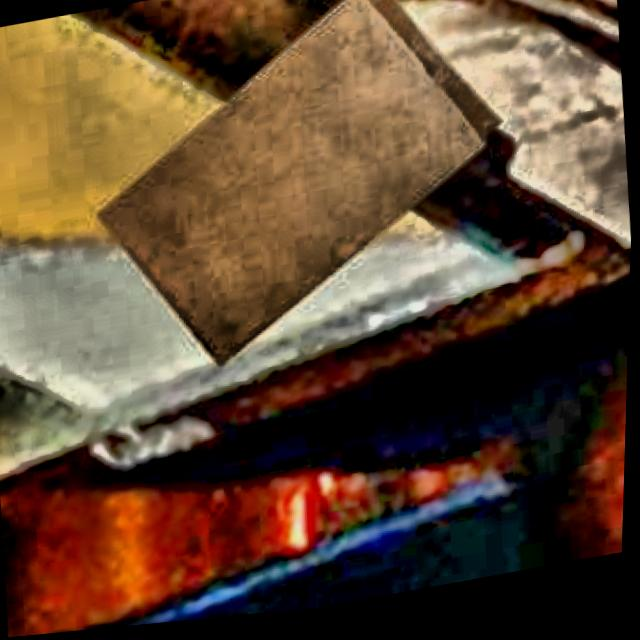Paper-bag: (75, 0, 527, 389)
